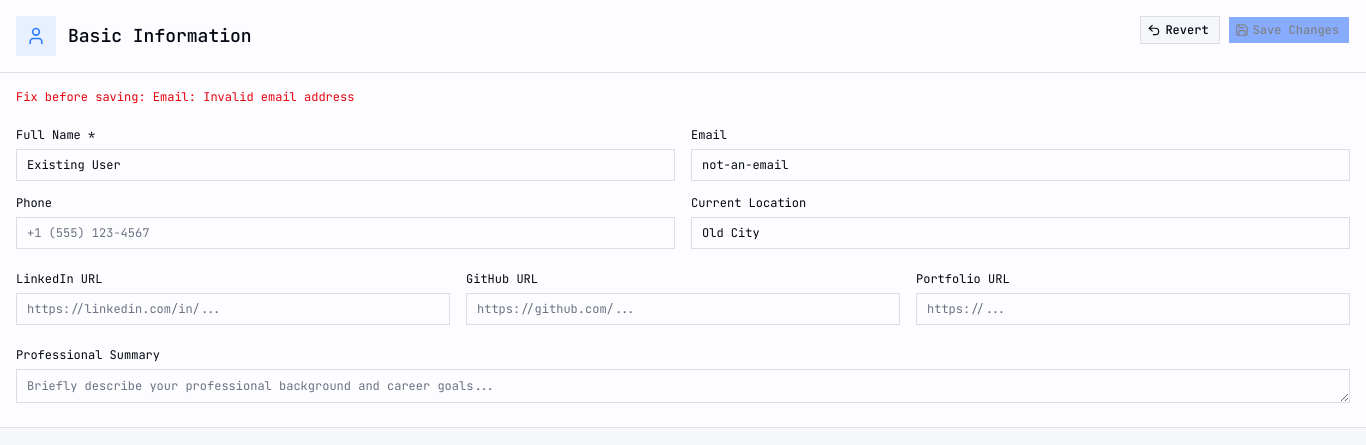
Test case: ProfileForm review workflow › explains invalid extracted profile fields before saving
Expected: the button "Save Changes" is disabled, left=1228, top=16, right=1350, bottom=44
Expected: the message shows "Fix before saving: Email:", left=16, top=89, right=354, bottom=105
Step 1. Replace the text in the field labelled "Email" with "valid@example.com" → [1020, 165], box left=691, top=149, right=1350, bottom=181
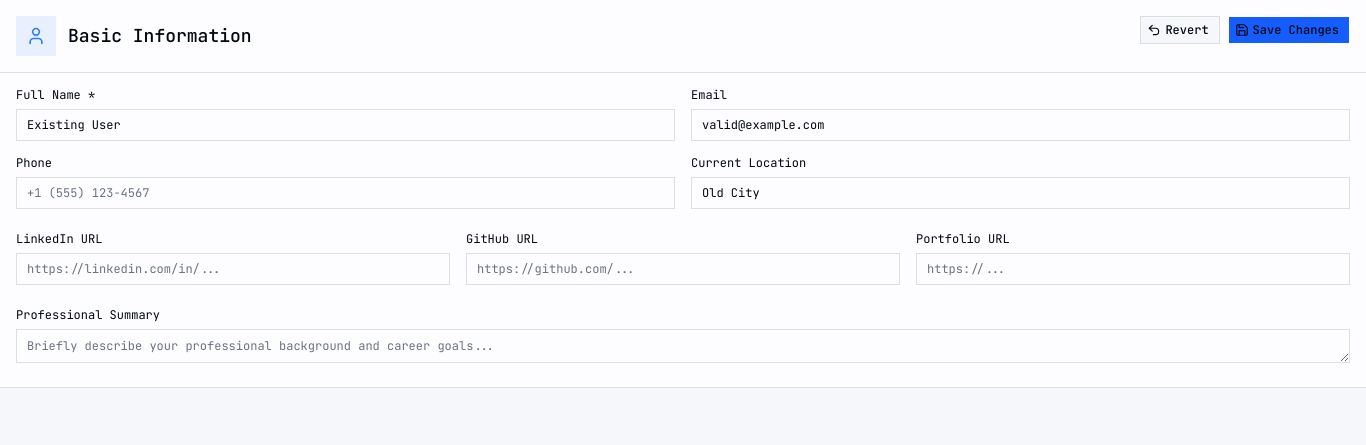
Expected: the button "Save Changes" is enabled, left=1228, top=16, right=1350, bottom=44
Expected: the message "Fix before saving: Email: Invalid email address" is gone
